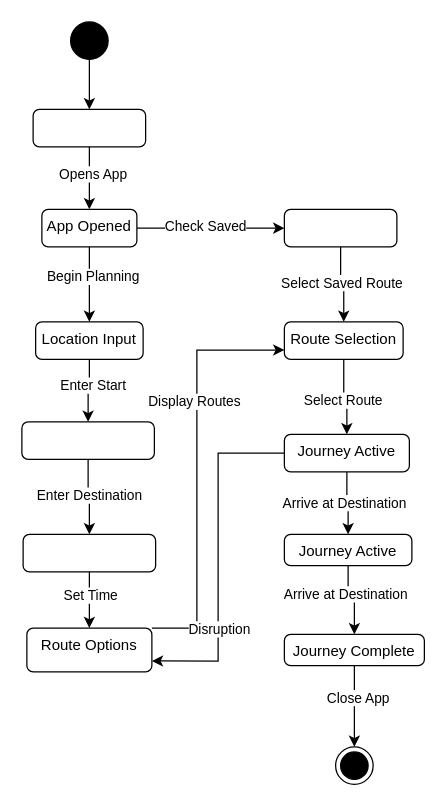
The diagram is 446 pixels wide and 806 high, and some of its shapes have lost their labels. The shapes that lost their labels are listed below. From the top down, each one's box as (x1, y1, x2, y2) in pixels, then its label:
(32, 108, 146, 147): App Clossed
(283, 208, 397, 247): Saved Routes
(21, 421, 154, 459): Destination Input
(22, 533, 156, 572): Time Preference
